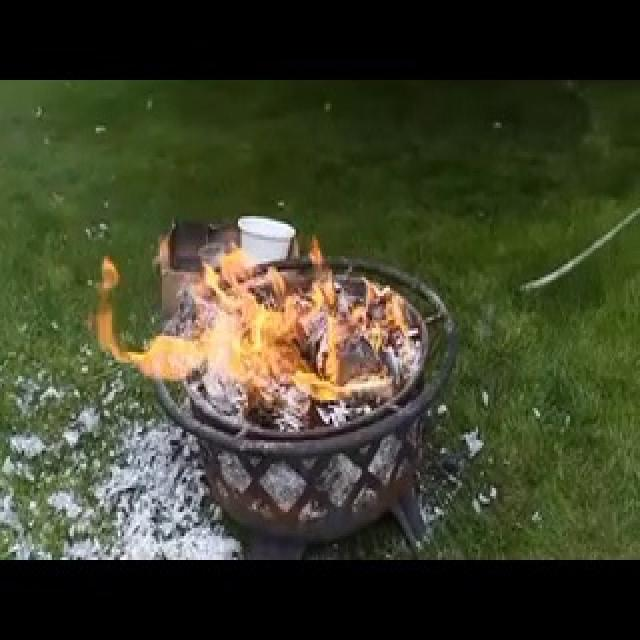Fire: (83, 222, 416, 402)
